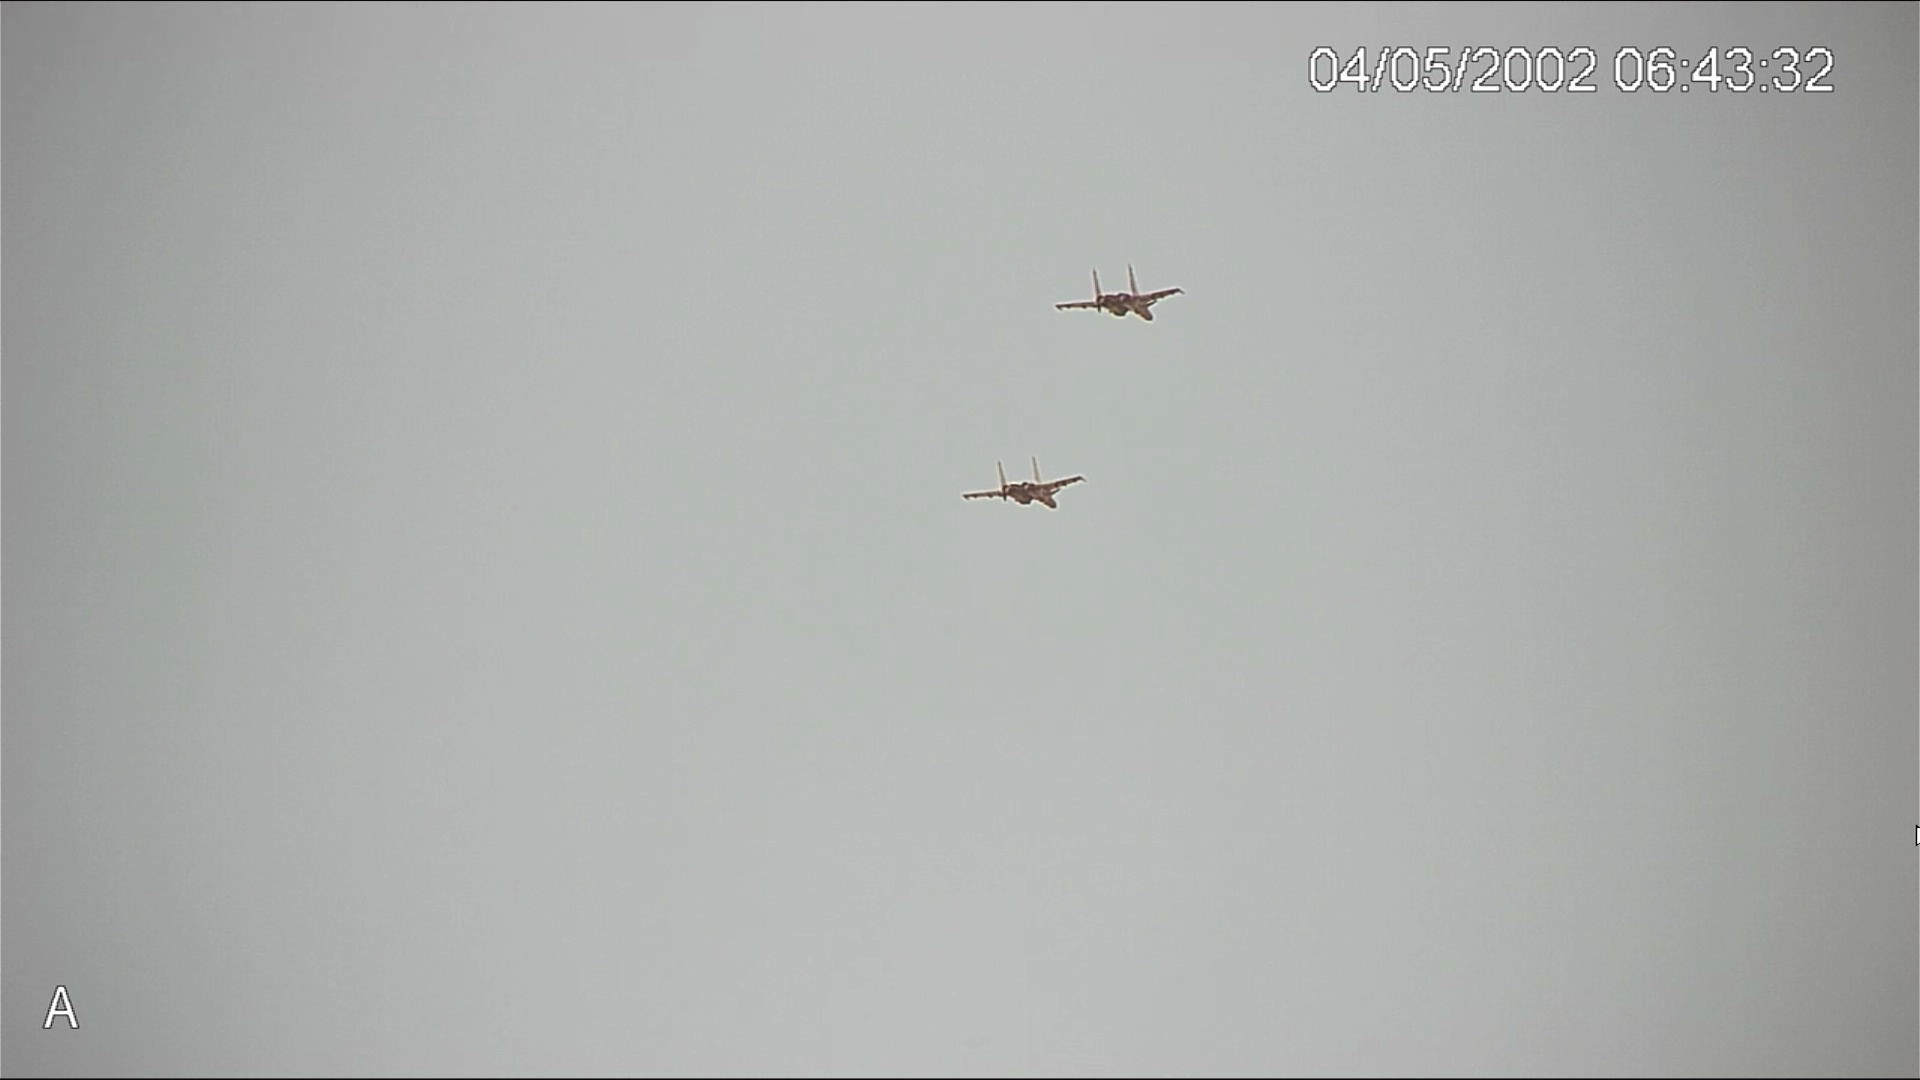SU_30: (1056, 269, 1188, 331), (963, 454, 1084, 518)
